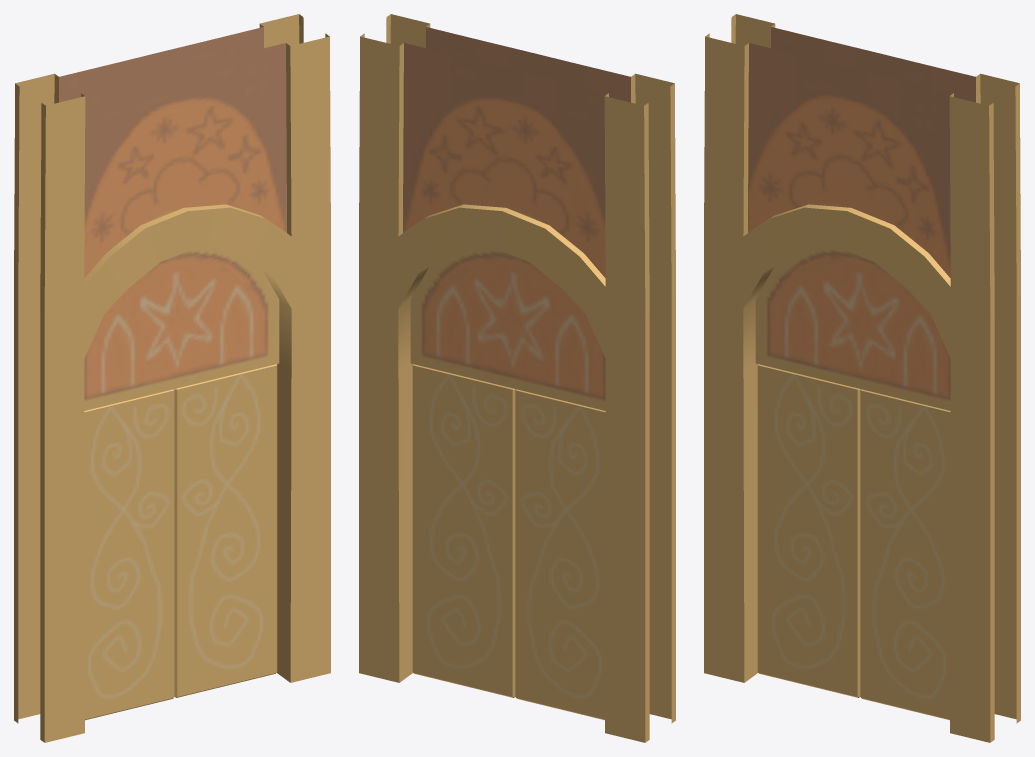
The model's file is Golden Door.fbx.
The picture shows the model from 3 angles, left to right: view 1: azimuth 30°, elevation 25°; view 2: azimuth 150°, elevation 25°; view 3: azimuth 330°, elevation 25°; orthographic projection.
Parts seen in each view (by area): view 1: Golden Door, Door R, Door L; view 2: Golden Door, Door R, Door L; view 3: Golden Door, Door L, Door R.
Boxes of the visible parts, left/top/right/bottom form: Golden Door: left=14, top=14, right=330, bottom=742; Door R: left=174, top=364, right=277, bottom=697; Door L: left=84, top=389, right=174, bottom=720; Golden Door: left=359, top=14, right=675, bottom=742; Door R: left=412, top=364, right=515, bottom=697; Door L: left=515, top=389, right=605, bottom=720; Golden Door: left=704, top=14, right=1020, bottom=742; Door L: left=757, top=364, right=860, bottom=697; Door R: left=860, top=389, right=950, bottom=720.
Bounding box in the file's own units: 278 × 592 × 51.81.
1 material, 1 textured.
